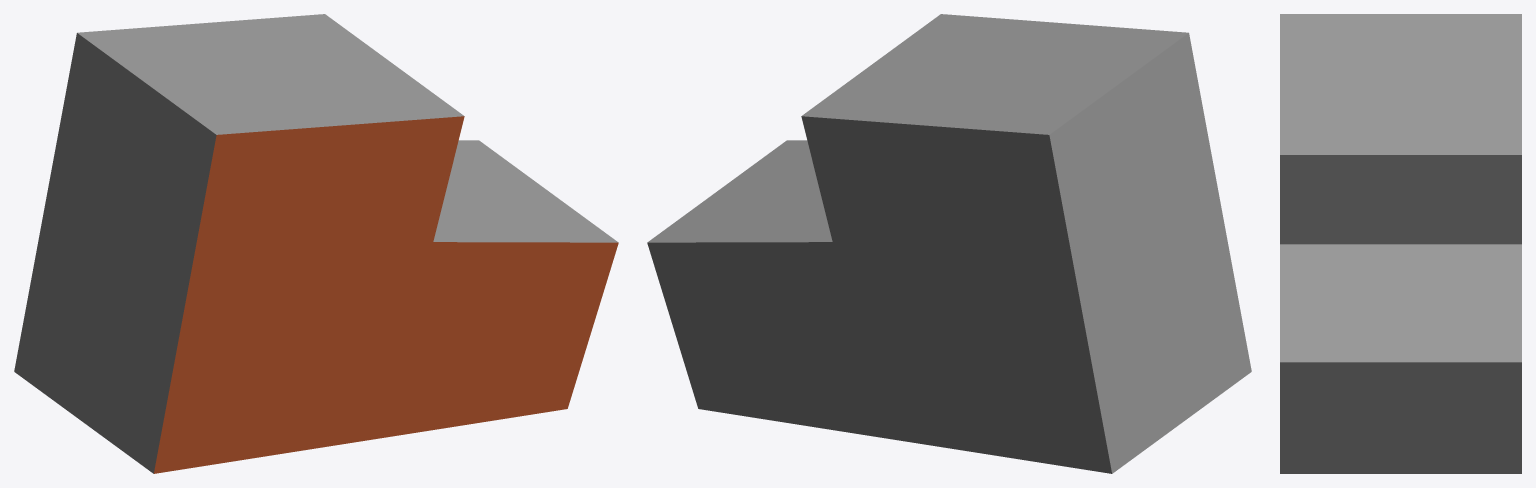
Rendered from construction_3417_assumed_A_Casa_h6m.obj.
3 views of the same model, side by side, from view 1: azimuth 30°, elevation 25°; view 2: azimuth 150°, elevation 25°; view 3: azimuth 270°, elevation 25° (orthographic). The views are drawn at different scales.
Visible parts, largest first — view 1: construction_3417_assumed_A_Casa; view 2: construction_3417_assumed_A_Casa; view 3: construction_3417_assumed_A_Casa.
Boxes of the visible parts, bbox=[...] form: construction_3417_assumed_A_Casa: bbox=[14, 14, 618, 473]; construction_3417_assumed_A_Casa: bbox=[647, 14, 1251, 473]; construction_3417_assumed_A_Casa: bbox=[1280, 14, 1521, 473].
Size of the model in its own units: 11.54 by 8.53 by 6.
